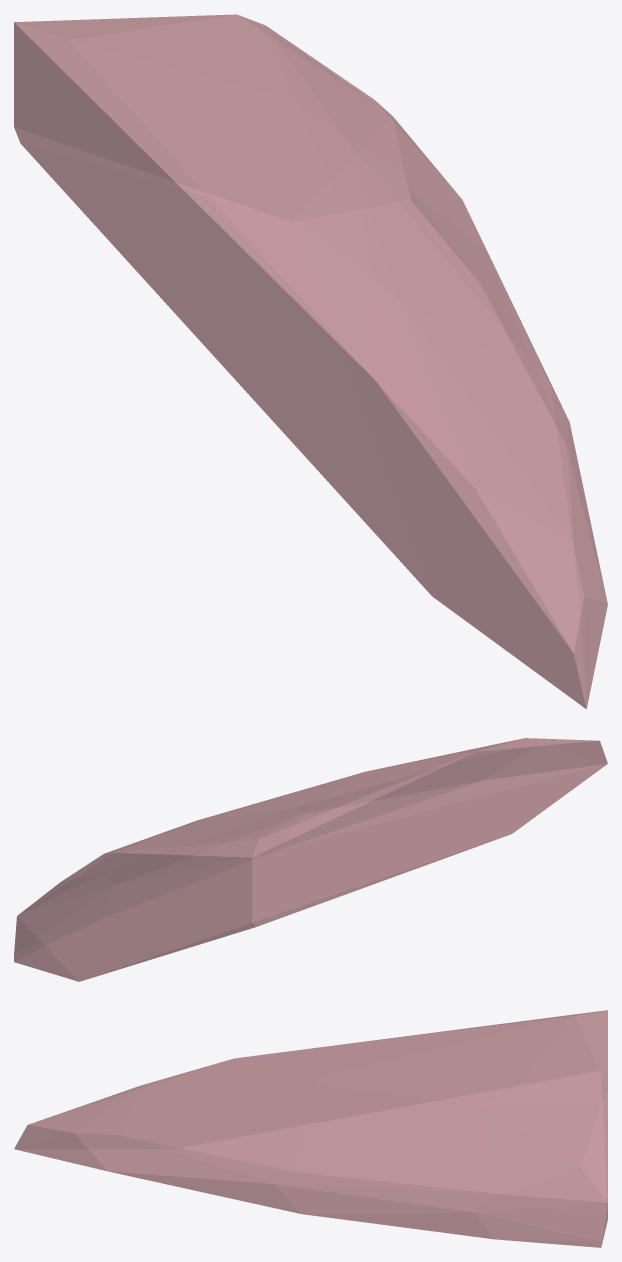
The picture shows the model from 3 angles, top to bottom: view 1: azimuth 30°, elevation 25°; view 2: azimuth 150°, elevation 25°; view 3: azimuth 270°, elevation 25°; orthographic projection. The views are drawn at different scales.
Parts seen in each view (by area): view 1: Shape_IndexedFaceSet.004_Shape_IndexedFaceSet.7610; view 2: Shape_IndexedFaceSet.004_Shape_IndexedFaceSet.7610; view 3: Shape_IndexedFaceSet.004_Shape_IndexedFaceSet.7610.
Part boxes in pixels (left/top/right/bottom): Shape_IndexedFaceSet.004_Shape_IndexedFaceSet.7610: left=14, top=14, right=607, bottom=709; Shape_IndexedFaceSet.004_Shape_IndexedFaceSet.7610: left=14, top=738, right=607, bottom=981; Shape_IndexedFaceSet.004_Shape_IndexedFaceSet.7610: left=14, top=1010, right=607, bottom=1247.
Size of the model in its own units: 0.0716 by 0.047 by 0.182.
